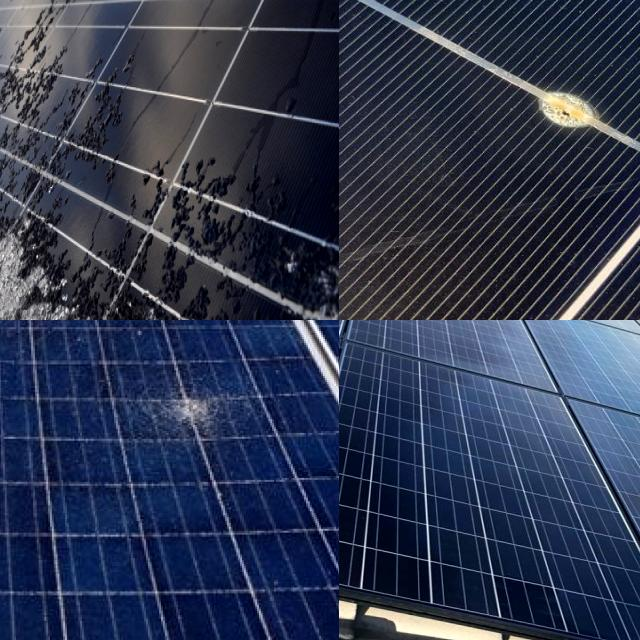crack: (339, 328, 640, 640), (339, 320, 597, 397), (510, 320, 640, 456), (339, 320, 511, 410), (339, 320, 457, 387), (339, 320, 435, 370)
hotspot: (142, 350, 254, 438), (0, 320, 63, 369)
panel: (0, 186, 78, 320), (231, 260, 339, 320), (101, 255, 186, 320), (0, 166, 35, 320), (0, 243, 63, 320), (18, 0, 128, 36), (0, 0, 47, 63), (0, 37, 29, 134), (0, 88, 20, 226), (0, 165, 40, 231), (0, 0, 30, 74)
shadow: (499, 68, 640, 146)
